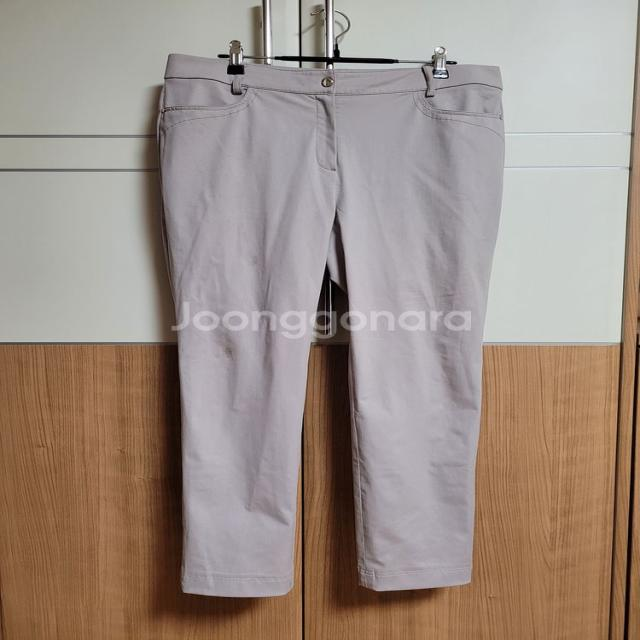long-pants: (155, 53, 507, 601)
